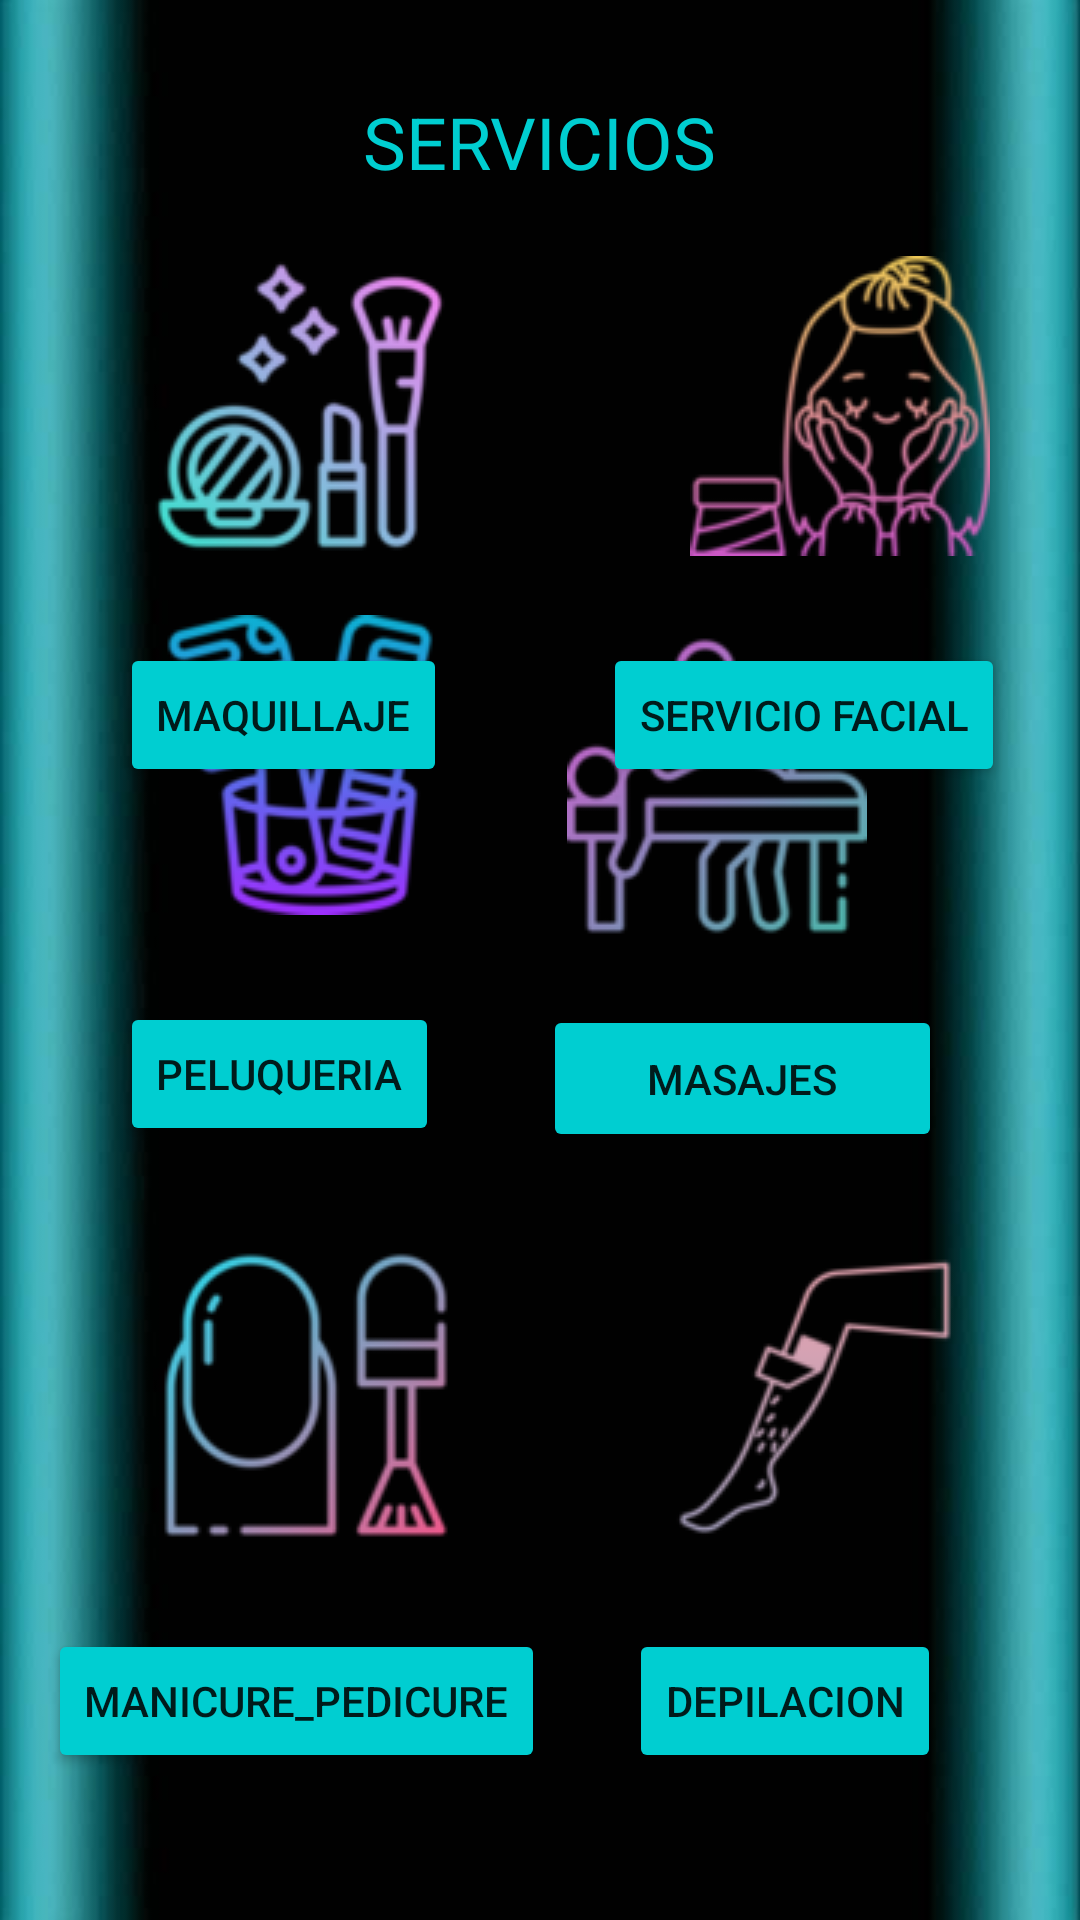

Icons on this 1080w x 1920h Android screen, each with the point to tap as point (x, y):
manicura: point (306, 1395)
